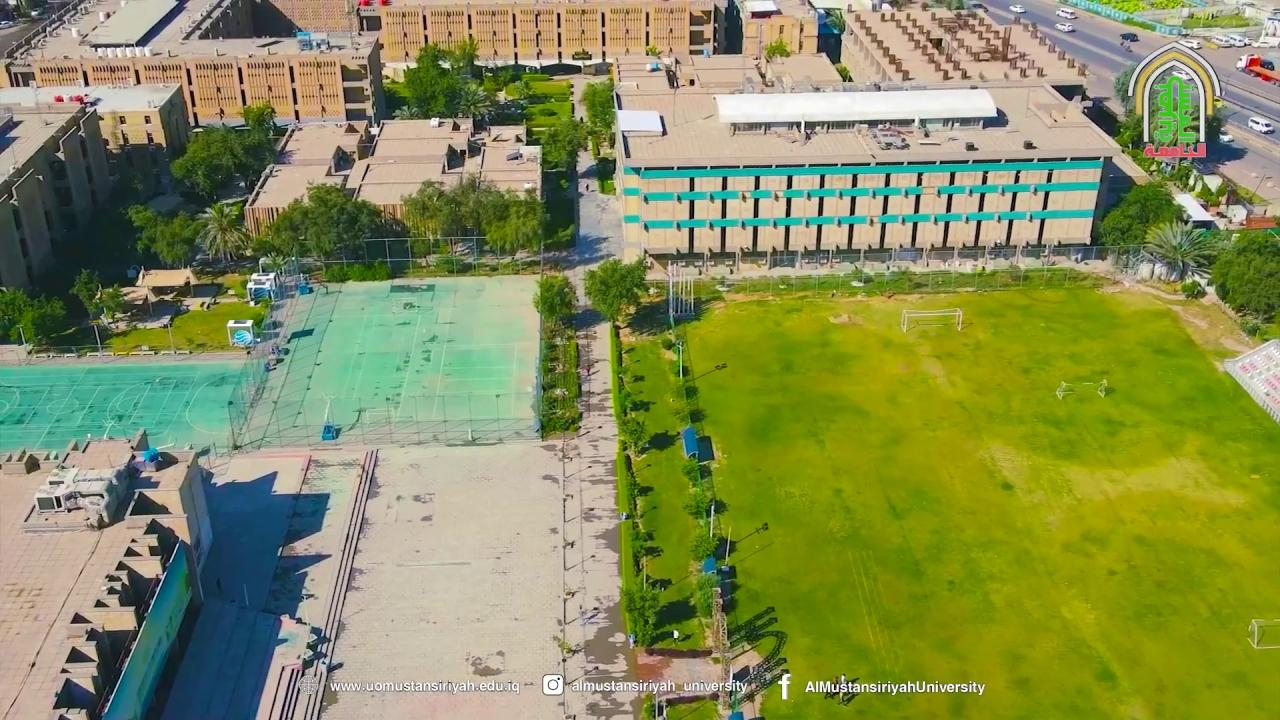car: (1236, 52, 1280, 81), (1248, 116, 1274, 134), (1178, 38, 1202, 50), (1055, 8, 1076, 19), (1218, 128, 1234, 142), (1054, 22, 1074, 32), (969, 2, 988, 12), (1118, 32, 1138, 41), (1009, 4, 1026, 13)
tree: (399, 173, 547, 271), (692, 576, 788, 716), (263, 180, 382, 277), (581, 254, 648, 419), (531, 270, 582, 441), (1096, 180, 1186, 268), (168, 122, 256, 201), (1210, 228, 1280, 320), (123, 202, 202, 268), (0, 285, 75, 353), (68, 267, 125, 354), (1141, 217, 1215, 282), (582, 253, 648, 324), (484, 188, 546, 257), (617, 569, 668, 652), (680, 454, 727, 540), (388, 61, 458, 118), (400, 178, 450, 255), (1148, 80, 1198, 153), (194, 200, 250, 263), (531, 271, 577, 334), (540, 114, 589, 172), (579, 78, 616, 150), (664, 378, 706, 435), (120, 202, 159, 263), (539, 387, 582, 440), (454, 80, 492, 135), (0, 286, 35, 344), (69, 267, 103, 321), (237, 99, 276, 136), (1112, 61, 1137, 115), (97, 282, 125, 323), (456, 32, 481, 77), (1114, 111, 1142, 151), (1194, 180, 1228, 212), (762, 35, 791, 63), (825, 8, 845, 33), (834, 62, 851, 81)
